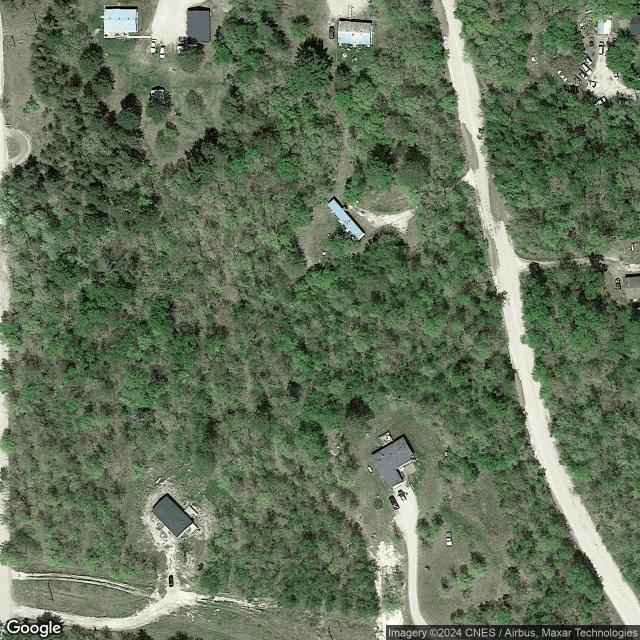Propane: (154, 475, 162, 485), (367, 465, 374, 474), (354, 199, 361, 205), (630, 244, 635, 252)
